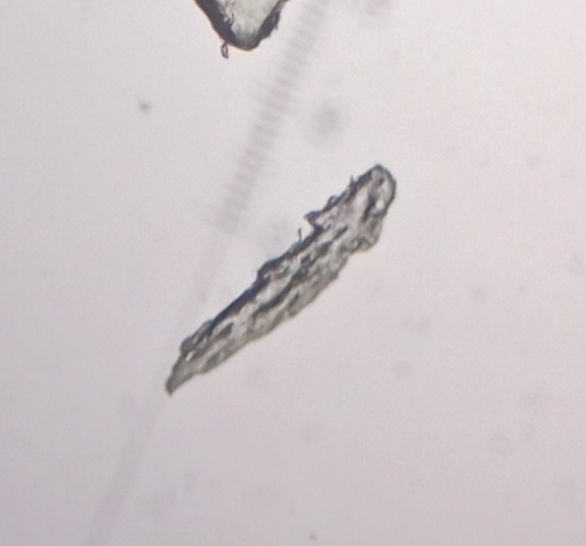microplastic: (159, 147, 399, 403), (218, 1, 284, 54)
